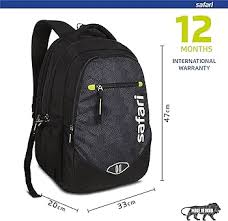backpack: (23, 19, 152, 199)
